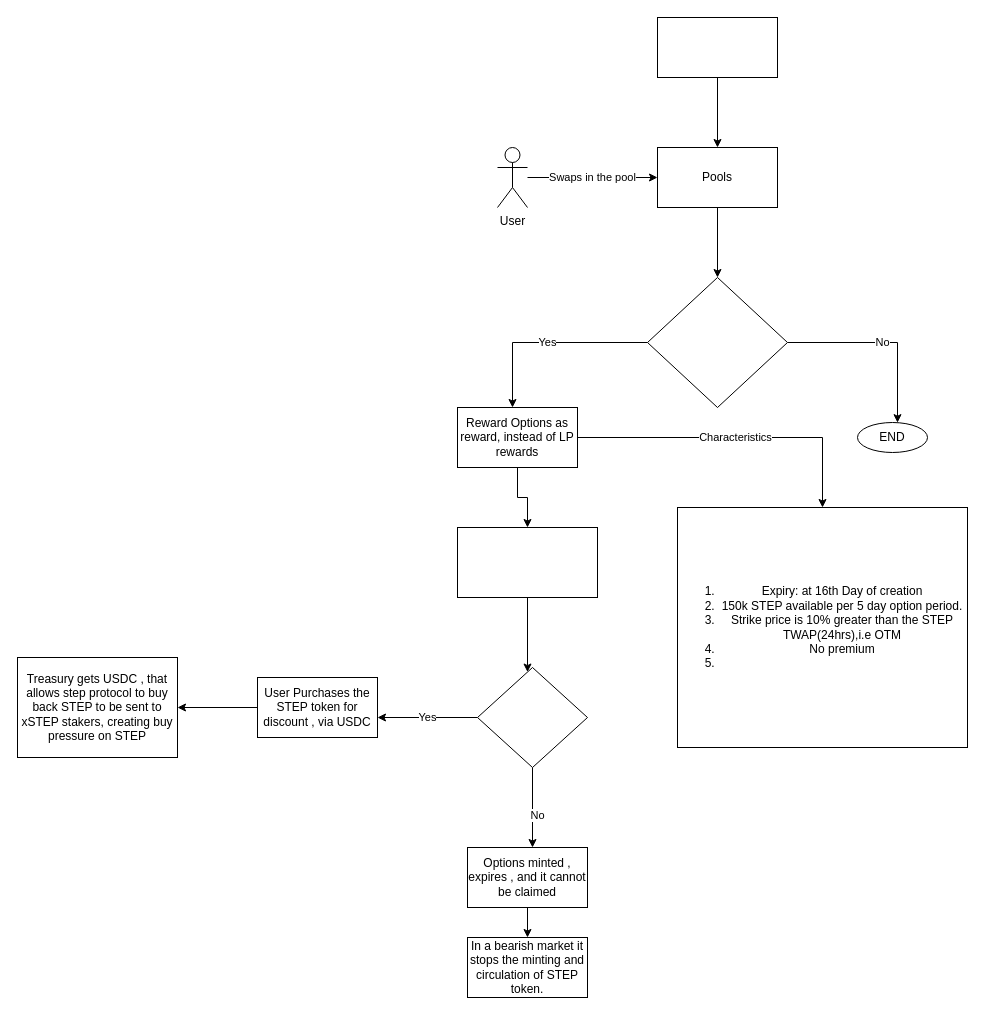
This 985x1015 diagram has some shape labels left out. Each missing label, with the box of its shape:
If Step price reaches Strike Price: (476, 666, 588, 768)
If user swapped in the last 5 days,: (646, 276, 788, 408)
Issued OTM, on pro rata basis , but preference is given to lower 75% user share.: (456, 526, 598, 598)
Step Finance: (656, 16, 778, 78)
